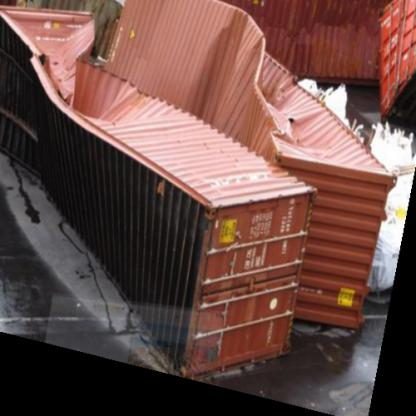Damage: (184, 19, 330, 161), (1, 7, 114, 138)
